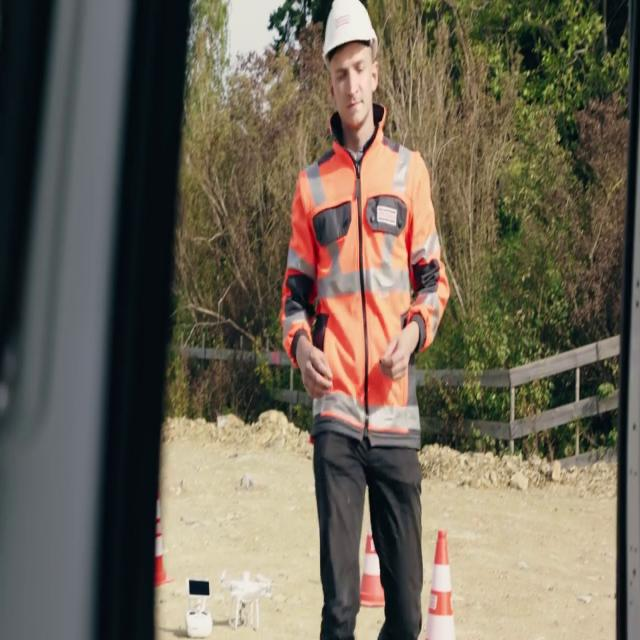drone: (217, 566, 275, 638)
